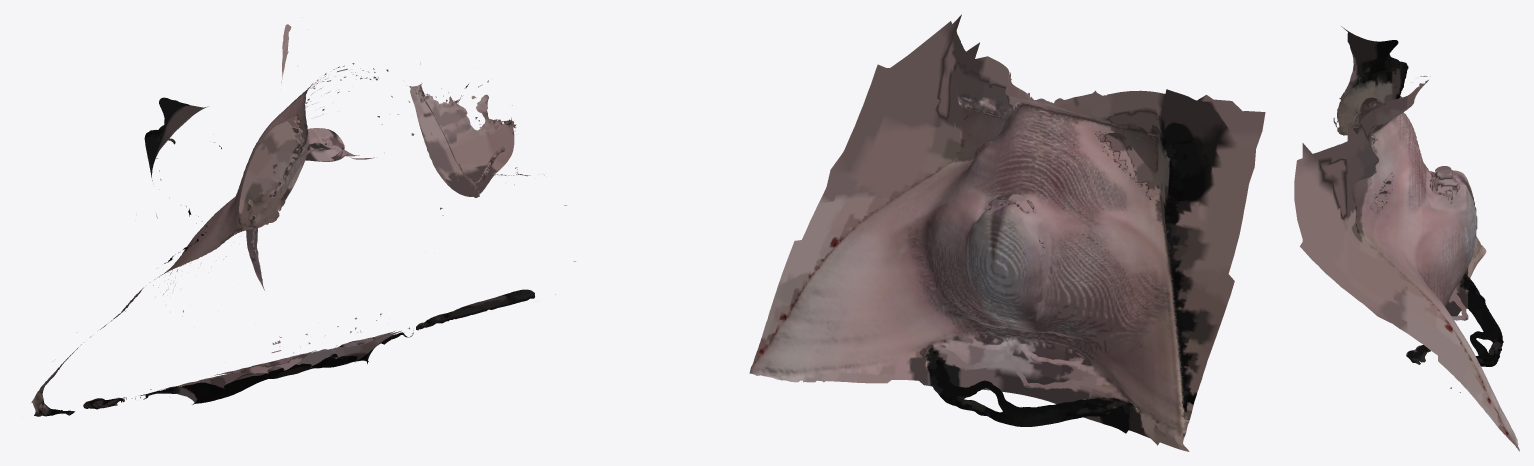
3 views of the same model, side by side, from view 1: azimuth 30°, elevation 25°; view 2: azimuth 150°, elevation 25°; view 3: azimuth 270°, elevation 25° (orthographic). The views are drawn at different scales.
Bounding box in the file's own units: 0.00147 × 0.000999 × 0.000758.
